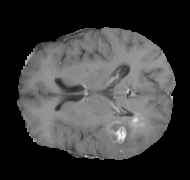Edema: (99, 108, 151, 149)
EnhancingTumors: (102, 113, 148, 147)
Necrosis: (101, 114, 147, 145)
